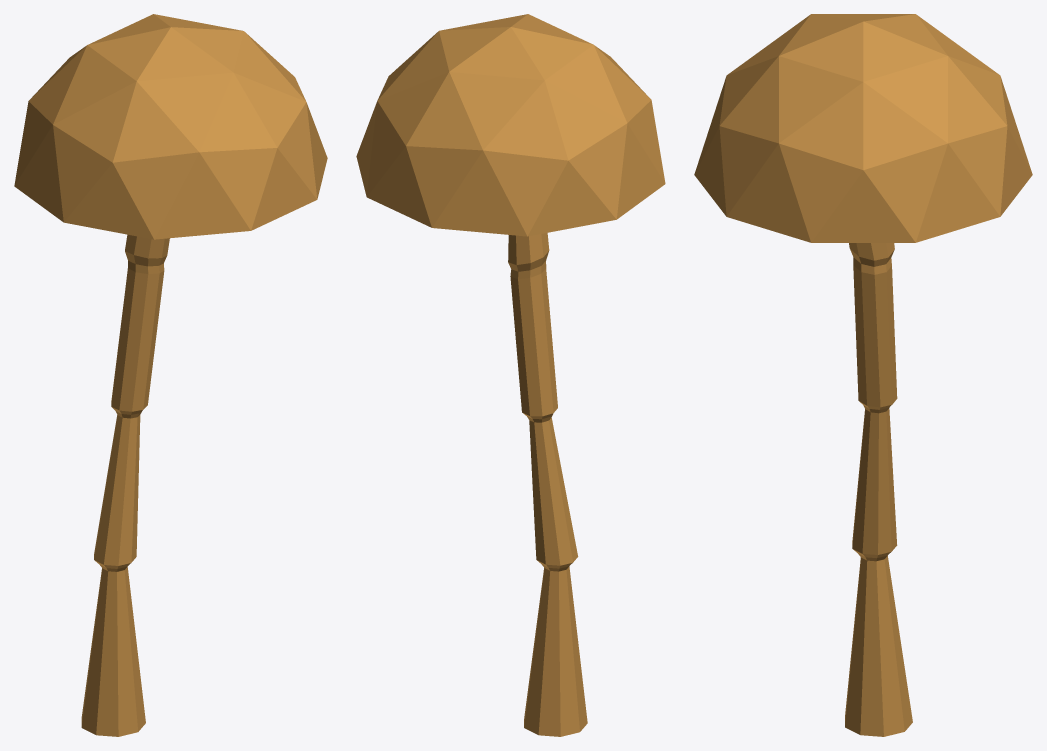
The model's file is lopoly-shroom.obj.
The picture shows the model from 3 angles, left to right: view 1: azimuth 30°, elevation 25°; view 2: azimuth 150°, elevation 25°; view 3: azimuth 270°, elevation 25°; orthographic projection. The views are drawn at different scales.
Parts seen in each view (by area): view 1: Cylinder; view 2: Cylinder; view 3: Cylinder.
Boxes of the visible parts, bbox=[...] form: Cylinder: bbox=[14, 14, 327, 736]; Cylinder: bbox=[356, 14, 665, 736]; Cylinder: bbox=[694, 14, 1032, 736].
Bounding box in the file's own units: 2.68 × 6.69 × 2.82.
